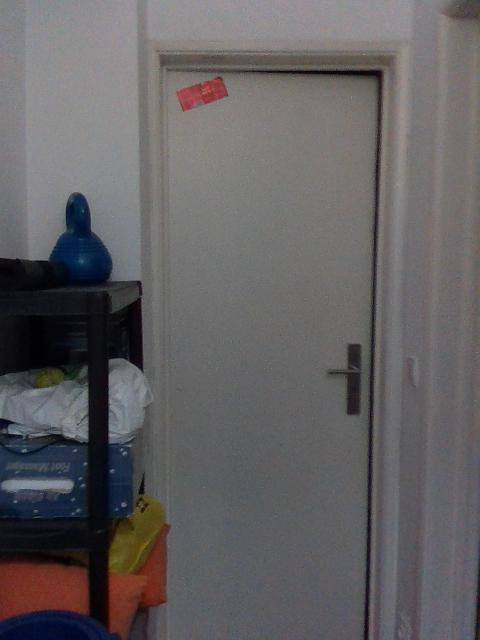door: (165, 72, 378, 640)
